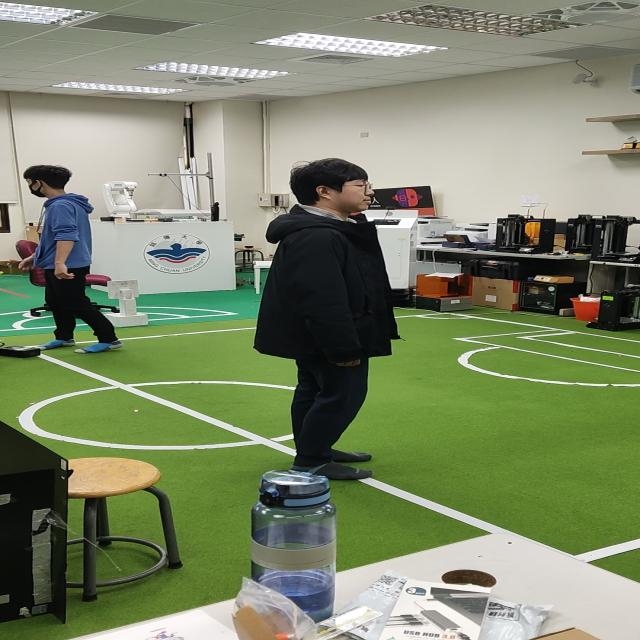person: (261, 154, 413, 462), (24, 161, 138, 356)
